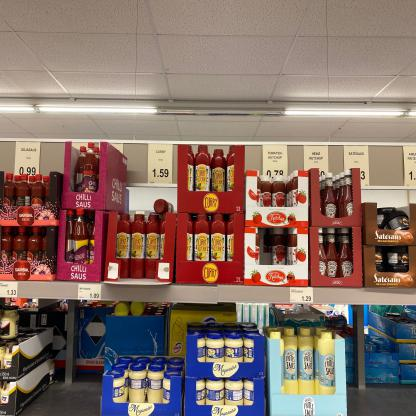prtg: (149, 145, 174, 185), (15, 143, 42, 179), (264, 146, 289, 182), (79, 285, 102, 301), (291, 288, 314, 304), (1, 283, 19, 298)
